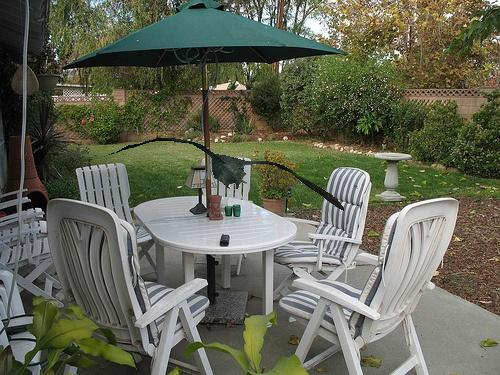tampered: (102, 139, 344, 211)
